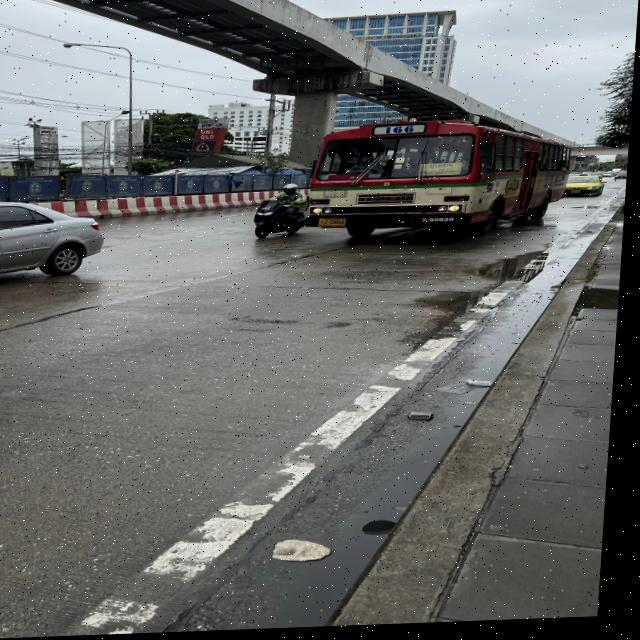BMTA-bus: (308, 114, 578, 244)
Bus-Line-Number: (377, 128, 424, 137)
Destination-Sign-Normal-Expressway: (420, 167, 465, 179)
